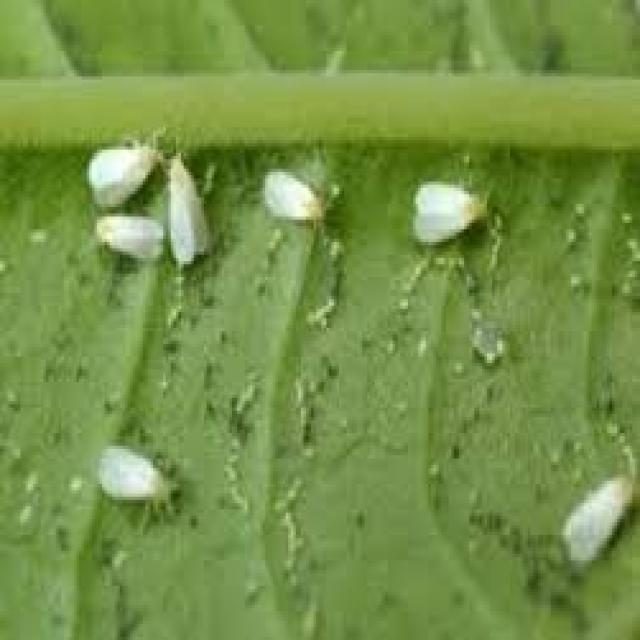Pestalotiopsis: (80, 122, 203, 282), (37, 423, 202, 533), (519, 438, 640, 576), (390, 154, 510, 288), (257, 144, 353, 236)
